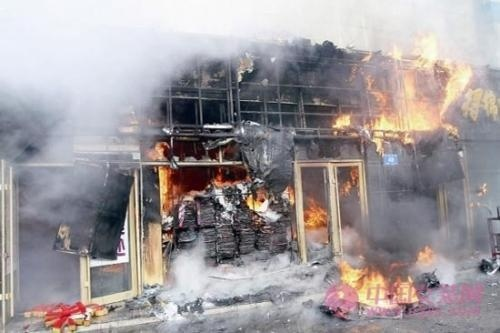fire: (328, 37, 485, 146), (332, 247, 436, 309), (149, 139, 175, 211), (302, 190, 328, 229), (245, 191, 269, 213), (284, 183, 295, 202)
